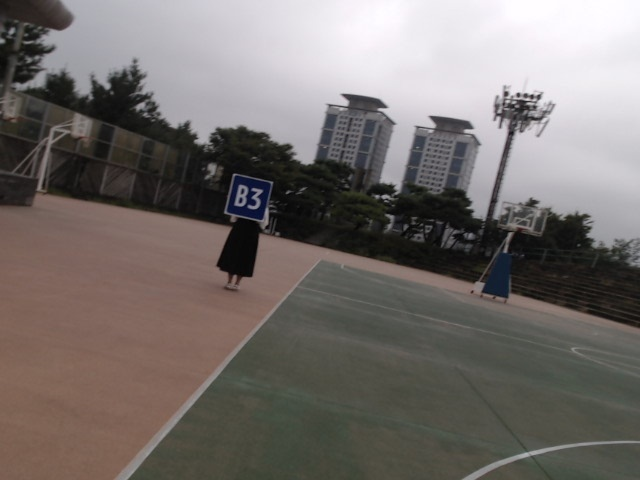delivery_b3: (224, 172, 273, 220)
